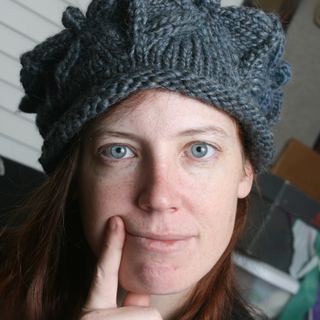eye: (91, 138, 145, 166), (173, 138, 227, 164)
